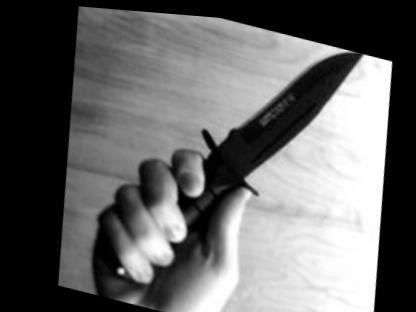knife: (146, 9, 395, 269)
